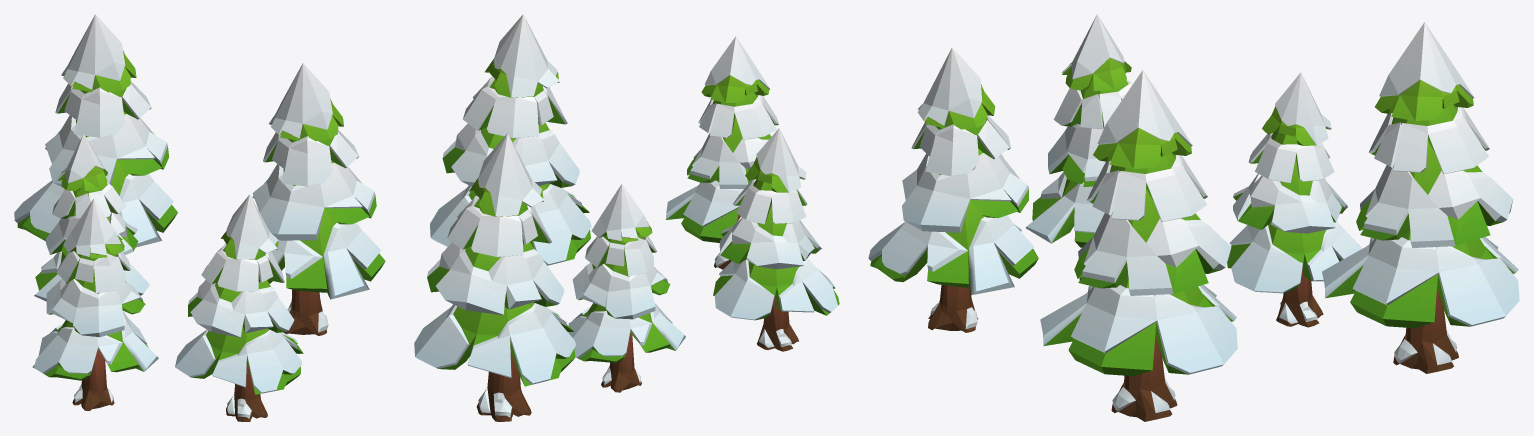
3 views of the same model, side by side, from view 1: azimuth 30°, elevation 25°; view 2: azimuth 150°, elevation 25°; view 3: azimuth 270°, elevation 25° (orthographic). The views are drawn at different scales.
Visible parts, largest first — view 1: SnowyTree (6), SnowyTree (9), SnowyTree (7), SnowyTree (10), SnowyTree (8); view 2: SnowyTree (9), SnowyTree (6), SnowyTree (10), SnowyTree (8), SnowyTree (7); view 3: SnowyTree (9), SnowyTree (6), SnowyTree (7), SnowyTree (8), SnowyTree (10).
Boxes of the visible parts, <box> form: SnowyTree (6): <box>252,63,385,335</box>; SnowyTree (9): <box>14,14,177,247</box>; SnowyTree (7): <box>175,194,303,421</box>; SnowyTree (10): <box>32,198,158,410</box>; SnowyTree (8): <box>34,134,149,301</box>; SnowyTree (9): <box>414,133,575,421</box>; SnowyTree (6): <box>430,14,591,265</box>; SnowyTree (10): <box>713,128,839,351</box>; SnowyTree (8): <box>568,184,685,392</box>; SnowyTree (7): <box>665,36,778,269</box>; SnowyTree (9): <box>1322,22,1519,373</box>; SnowyTree (6): <box>1040,70,1237,421</box>; SnowyTree (7): <box>868,47,1038,332</box>; SnowyTree (8): <box>1227,72,1362,327</box>; SnowyTree (10): <box>1025,14,1132,280</box>.
Size of the model in its own units: 12.62 by 9.38 by 15.87.
1 material, 1 textured.
